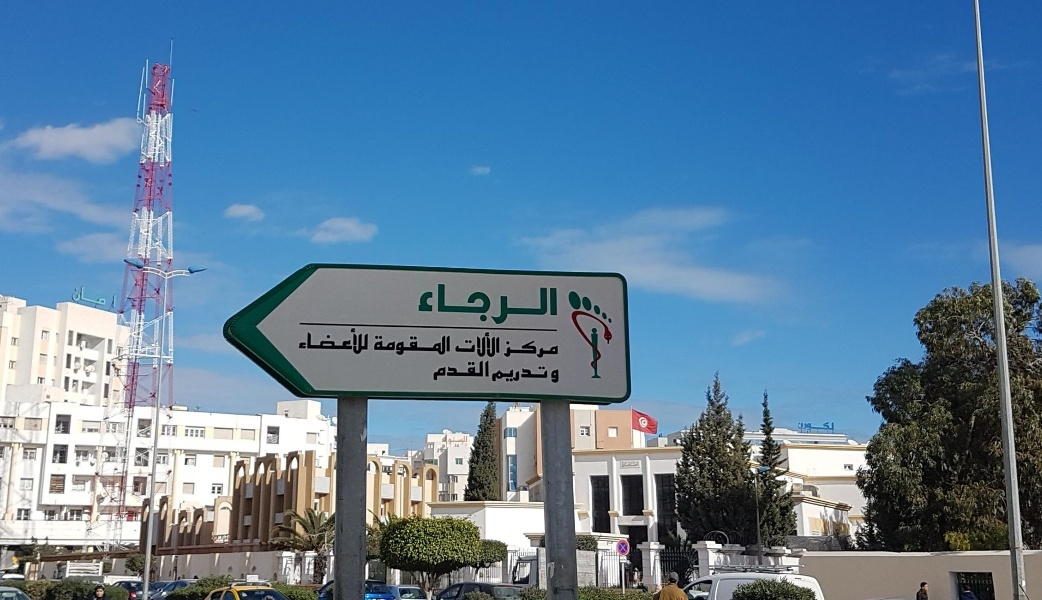text: (433, 283, 448, 329), (449, 283, 464, 329), (465, 283, 480, 329), (481, 283, 496, 329), (497, 283, 512, 329), (513, 283, 528, 329), (529, 283, 544, 329), (419, 283, 432, 329), (545, 283, 558, 329), (81, 283, 96, 312), (97, 283, 112, 312), (305, 327, 320, 355), (321, 327, 336, 355), (337, 327, 352, 355), (353, 327, 368, 355), (465, 332, 480, 358), (481, 332, 496, 358), (385, 335, 400, 357), (401, 335, 416, 357), (417, 335, 432, 357), (433, 335, 448, 357), (497, 364, 512, 385), (513, 364, 528, 385), (529, 364, 544, 385), (433, 361, 448, 382), (449, 361, 464, 382), (465, 361, 480, 382), (513, 340, 528, 359), (529, 340, 544, 359), (545, 340, 559, 359), (454, 332, 464, 358), (375, 335, 384, 357), (481, 361, 490, 382), (801, 421, 816, 433), (817, 421, 832, 433), (74, 283, 80, 312), (298, 327, 304, 355), (551, 368, 560, 385), (449, 435, 464, 445), (113, 283, 117, 312), (506, 340, 512, 359), (625, 462, 640, 469), (497, 332, 501, 358), (436, 446, 448, 454), (492, 364, 496, 385), (545, 364, 549, 385), (449, 335, 451, 357), (465, 435, 468, 445), (369, 327, 370, 355), (833, 421, 835, 433), (621, 462, 624, 469), (799, 421, 800, 433), (447, 435, 448, 445)
